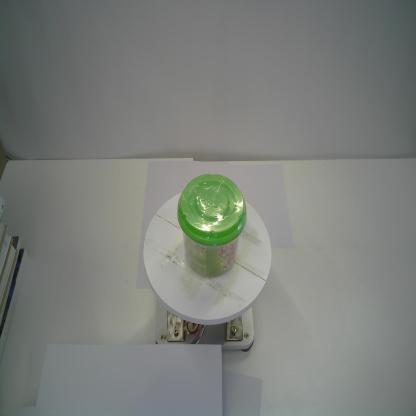Instant Drink: (176, 172, 249, 278)
